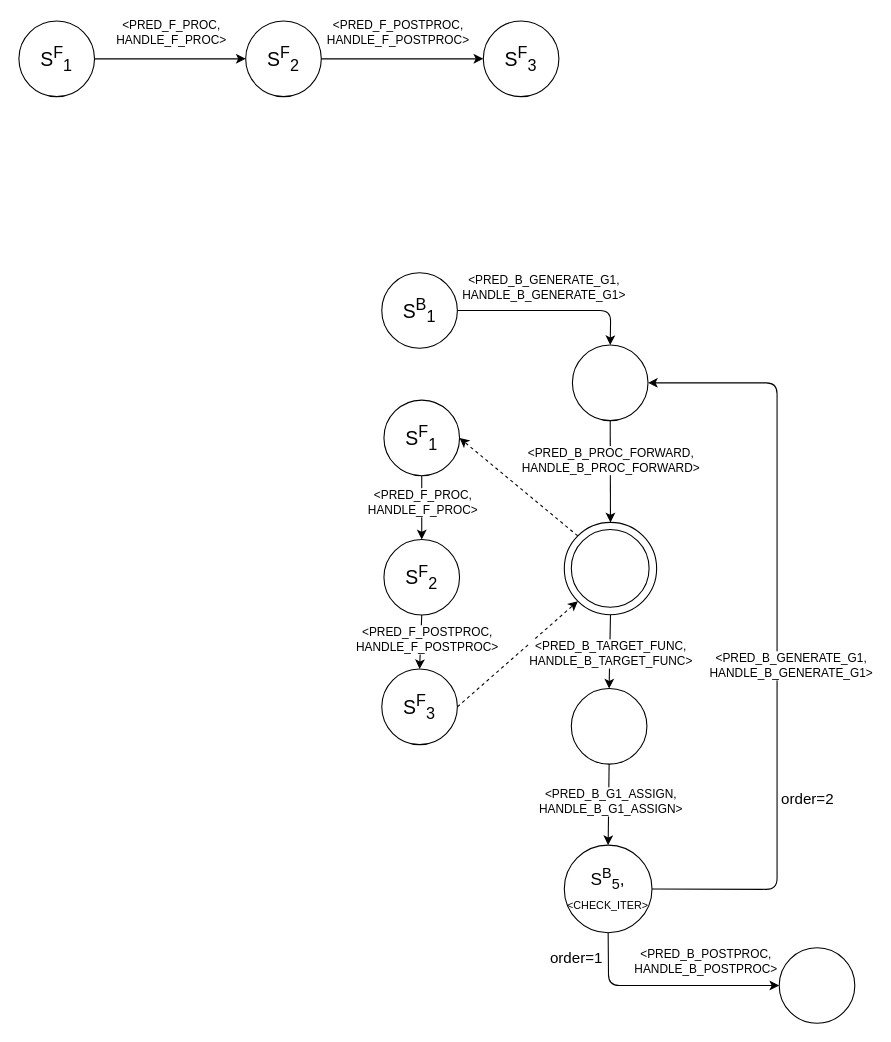
The diagram is 891 pixels wide and 1042 high, and some of its shapes have lost their labels. The shapes that lost their labels are listed below. From the top down, each one's centre as x and y in pixels, then its label:
At (x=609, y=382): "S B 2".
At (x=609, y=567): "S B 3 , Г forward".
At (x=608, y=725): "S B 4".
At (x=816, y=985): "S B 6".
